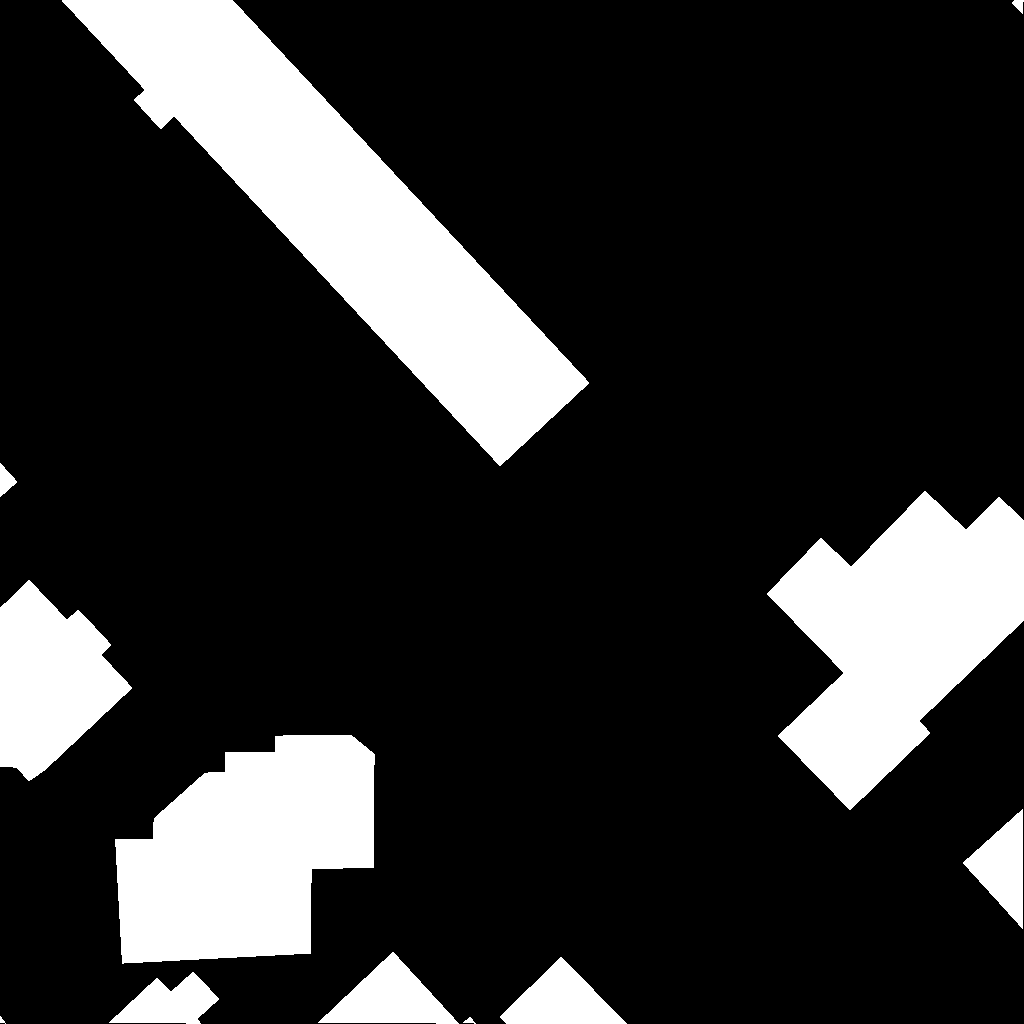building: (61, 0, 590, 467), (767, 491, 1024, 811), (115, 735, 375, 964), (0, 580, 133, 782), (318, 952, 477, 1024), (0, 972, 220, 1024), (500, 957, 628, 1024), (963, 809, 1024, 930), (0, 463, 18, 498), (1012, 0, 1024, 15)
